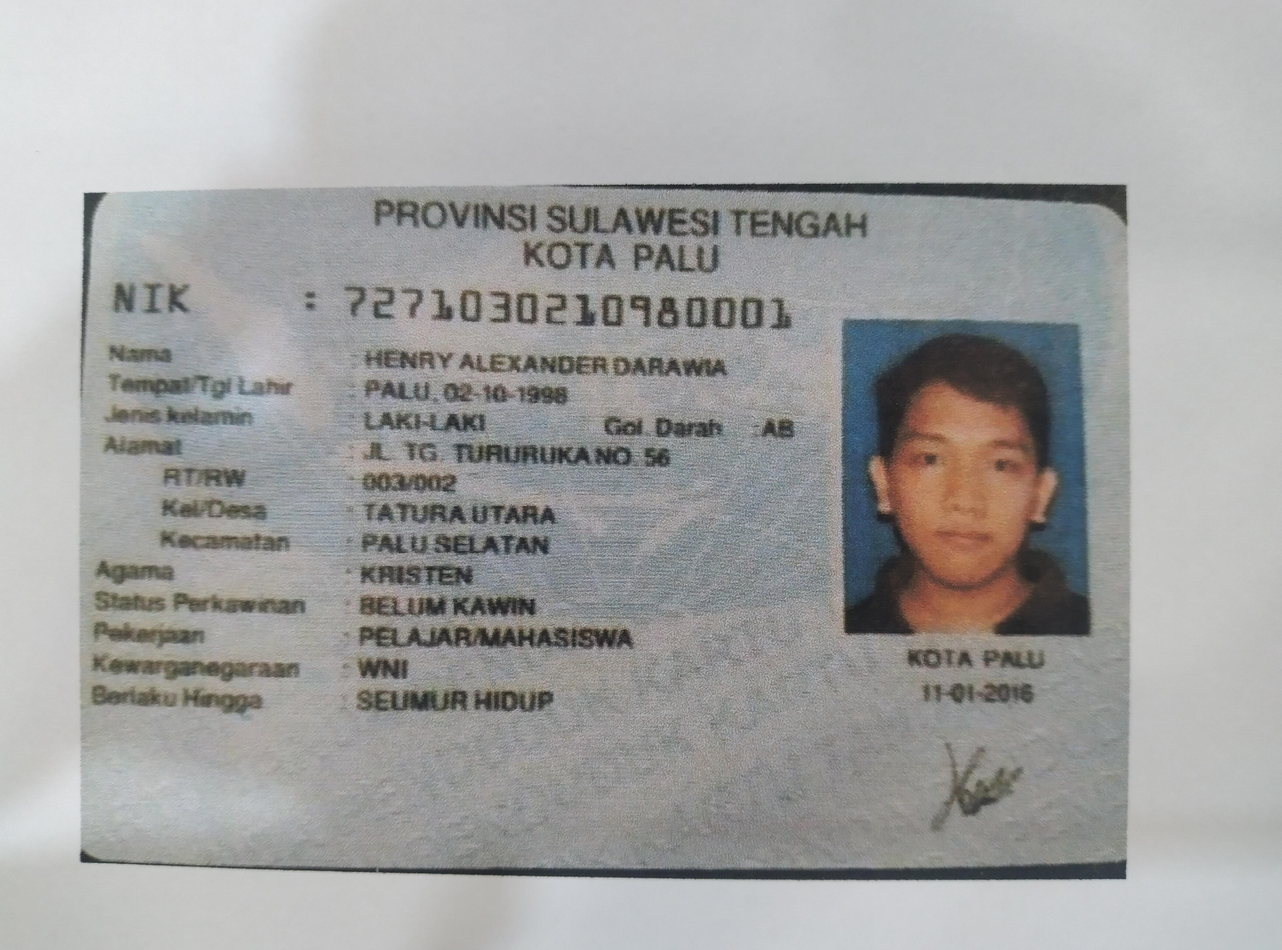ID-card: (72, 194, 1126, 865)
